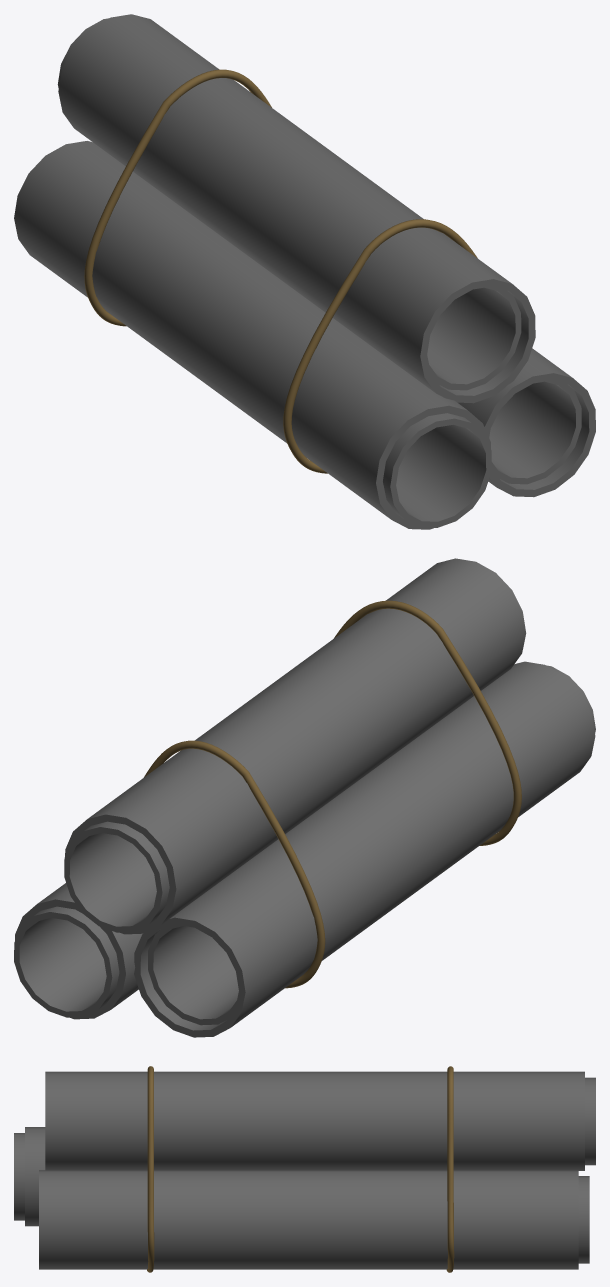
Rendered from Pipe_Pack.fbx.
3 renders of one model, top to bottom at view 1: azimuth 30°, elevation 25°; view 2: azimuth 150°, elevation 25°; view 3: azimuth 270°, elevation 25°, orthographic. The views are drawn at different scales.
Visible parts, largest first — view 1: Pipe Pack; view 2: Pipe Pack; view 3: Pipe Pack.
Part boxes in pixels (box(x1,y1,x2,y2)): Pipe Pack: box(14, 14, 595, 529); Pipe Pack: box(14, 558, 595, 1037); Pipe Pack: box(14, 1066, 595, 1272).
Size of the model in its own units: 10400 by 9717 by 28444.
